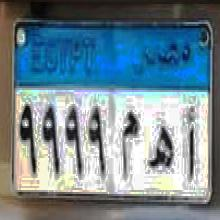9: (19, 100, 39, 176), (88, 103, 108, 176), (65, 104, 81, 175), (44, 104, 60, 174)
alif: (185, 106, 196, 179)
haa: (148, 126, 179, 170)
meem: (116, 108, 140, 178)
